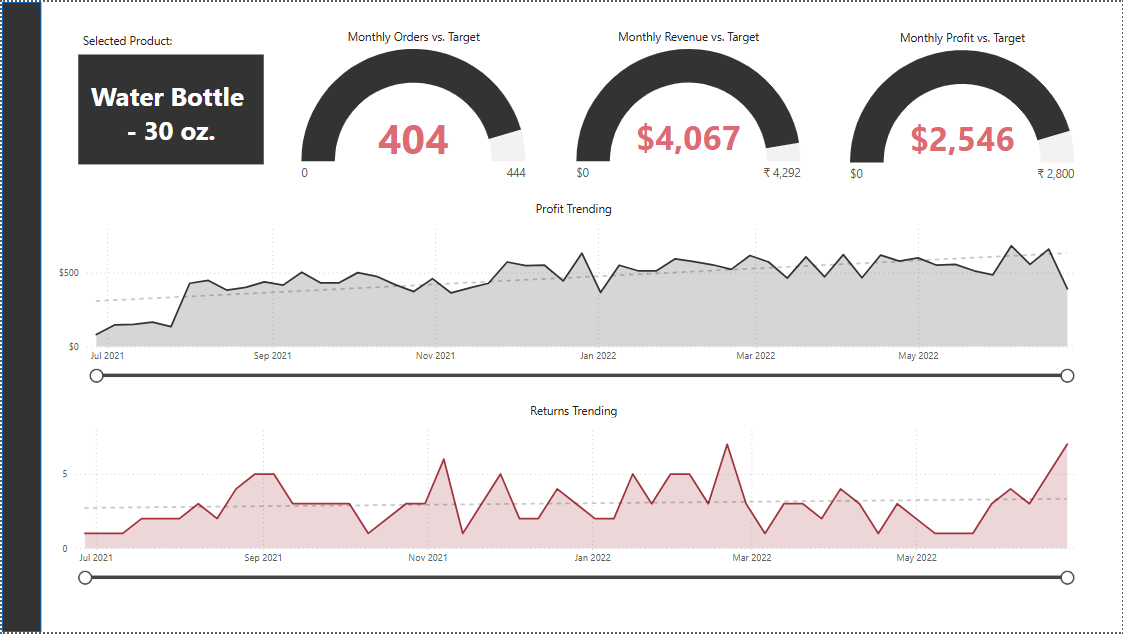

This screenshot's page, from the dashboard's own definition file:
{"tool":"powerbi","page":{"name":"Product Detail","canvas":[1280,720],"ordinal":2},"visuals":[{"type":"shape","box":[0,0,45,720],"z":0},{"type":"gauge","title":"Monthly Orders vs. Target","fields":{"Y":["Mesures Table.Total Orders"],"MaxValue":["Mesures Table.Order Target"]},"box":[337.5,29.6,266.5,185.9],"z":1000},{"type":"actionButton","box":[2.4,544.1,43.1,40.7],"z":1000,"group":"g1"},{"type":"gauge","title":"Monthly Revenue vs. Target","fields":{"Y":["Mesures Table.Total Revenue"],"MaxValue":["Mesures Table.Revenue Target"]},"box":[650.8,29.6,266.5,185.9],"z":2000},{"type":"actionButton","box":[2.4,602.9,43.1,40.7],"z":2000,"group":"g1"},{"type":"gauge","title":"Monthly Profit vs. Target","fields":{"Y":["Mesures Table.Total Profit"],"MaxValue":["Mesures Table.Profit Target"]},"box":[964,30.8,266.5,185.9],"z":3000},{"type":"actionButton","box":[2.4,661.6,43.1,40.7],"z":3000,"group":"g1"},{"type":"actionButton","box":[2.4,485.4,43.1,40.7],"z":4000,"group":"g1"},{"type":"lineChart","title":"Profit Trending","fields":{"Category":["Calendar Lookup.Date Hierarchy.Start of Year","Calendar Lookup.Date Hierarchy.Start of Month","Calendar Lookup.Date Hierarchy.Start of Week","Calendar Lookup.Date Hierarchy.Date"],"Y":["Mesures Table.Total Profit","Mesures Table.Adjusted Profit"]},"box":[290,226.5,956.4,210.9],"z":4000},{"type":"areaChart","title":"Returns Trending","fields":{"Y":["Mesures Table.Return Rate"],"Category":["Calendar Lookup.Date Hierarchy.Start of Year","Calendar Lookup.Date Hierarchy.Start of Month","Calendar Lookup.Date Hierarchy.Start of Week","Calendar Lookup.Date Hierarchy.Date"]},"box":[281.6,456.6,964.8,212.1],"z":5000},{"type":"card","fields":{"Values":["Min(Product Lookup.ProductName)"]},"box":[77.9,59.9,240.9,125.8],"z":6000},{"type":"textbox","box":[77.9,30,232.5,30],"z":7000},{"type":"group","id":"g1","title":"Navigation Buttons","box":[2.4,485.4,43.1,216.9],"z":8000},{"type":"actionButton","box":[2.5,5,40,37.5],"z":9000},{"type":"slicer","fields":{"Values":["Price Adjustment (%).Price Adjustment (%)"]},"box":[77.9,226.5,212.1,155.8],"z":10000},{"type":"slicer","fields":{"Values":["Product Metric Selection.Product Metric Selection"]},"box":[68.3,457.8,221.7,185.8],"z":11000}]}

Visuals, with their boxes in screenshot pixels (x1, y1, x2, y2), scaled from the page's 1280x720 canvas onto the 1123x634 screenshot:
shape: bbox=[0, 0, 39, 633]
"Monthly Orders vs. Target" gauge: bbox=[296, 26, 530, 190]
actionButton: bbox=[2, 479, 40, 515]
"Monthly Revenue vs. Target" gauge: bbox=[571, 26, 805, 190]
actionButton: bbox=[2, 531, 40, 567]
"Monthly Profit vs. Target" gauge: bbox=[846, 27, 1080, 191]
actionButton: bbox=[2, 583, 40, 618]
actionButton: bbox=[2, 427, 40, 463]
"Profit Trending" lineChart: bbox=[254, 199, 1094, 385]
"Returns Trending" areaChart: bbox=[247, 402, 1094, 589]
card - Min(Product Lookup.ProductName): bbox=[68, 53, 280, 164]
textbox: bbox=[68, 26, 272, 53]
"Navigation Buttons" group: bbox=[2, 427, 40, 618]
actionButton: bbox=[2, 4, 37, 37]
slicer - Price Adjustment (%).Price Adjustment (%): bbox=[68, 199, 254, 337]
slicer - Product Metric Selection.Product Metric Selection: bbox=[60, 403, 254, 567]
